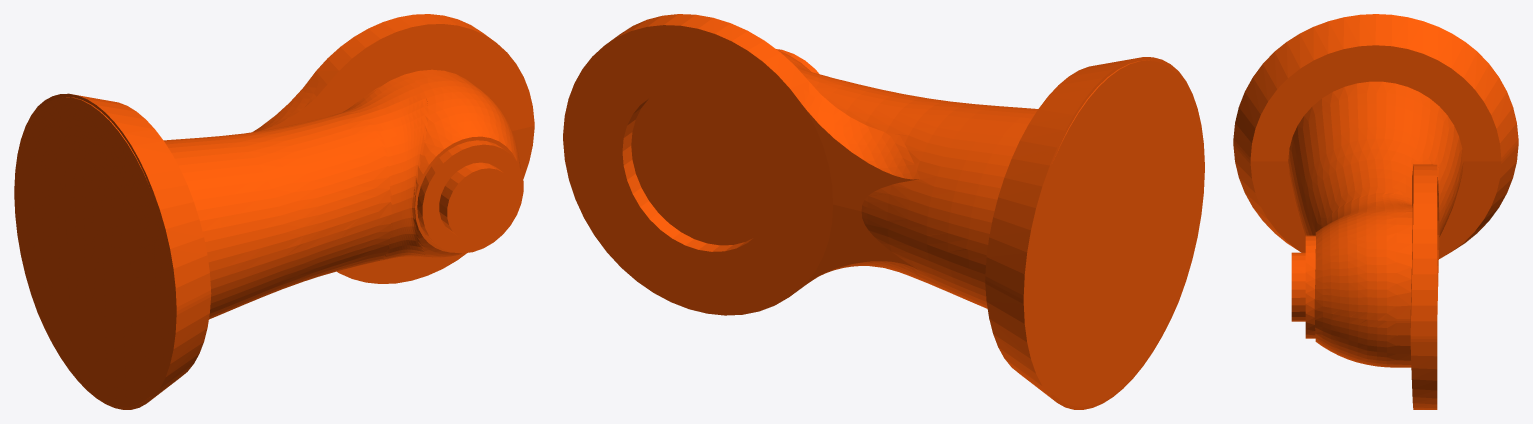
3 views of the same model, side by side, from view 1: azimuth 30°, elevation 25°; view 2: azimuth 150°, elevation 25°; view 3: azimuth 270°, elevation 25° (orthographic). The views are drawn at different scales.
Visible parts, largest first — view 1: Default_0_world_Wrist_1.3ds_Wrist_1.3ds, Default_1_world_Wrist_1.3ds_Wrist_1.3ds; view 2: Default_0_world_Wrist_1.3ds_Wrist_1.3ds, Default_1_world_Wrist_1.3ds_Wrist_1.3ds; view 3: Default_0_world_Wrist_1.3ds_Wrist_1.3ds.
Boxes of the visible parts, x1,y1,x2,y2 form: Default_0_world_Wrist_1.3ds_Wrist_1.3ds: [38, 14, 534, 409]; Default_1_world_Wrist_1.3ds_Wrist_1.3ds: [14, 97, 176, 407]; Default_0_world_Wrist_1.3ds_Wrist_1.3ds: [563, 14, 1178, 409]; Default_1_world_Wrist_1.3ds_Wrist_1.3ds: [1023, 60, 1204, 406]; Default_0_world_Wrist_1.3ds_Wrist_1.3ds: [1233, 14, 1518, 409].
Size of the model in its own units: 0.3371 by 0.2066 by 0.2059.
